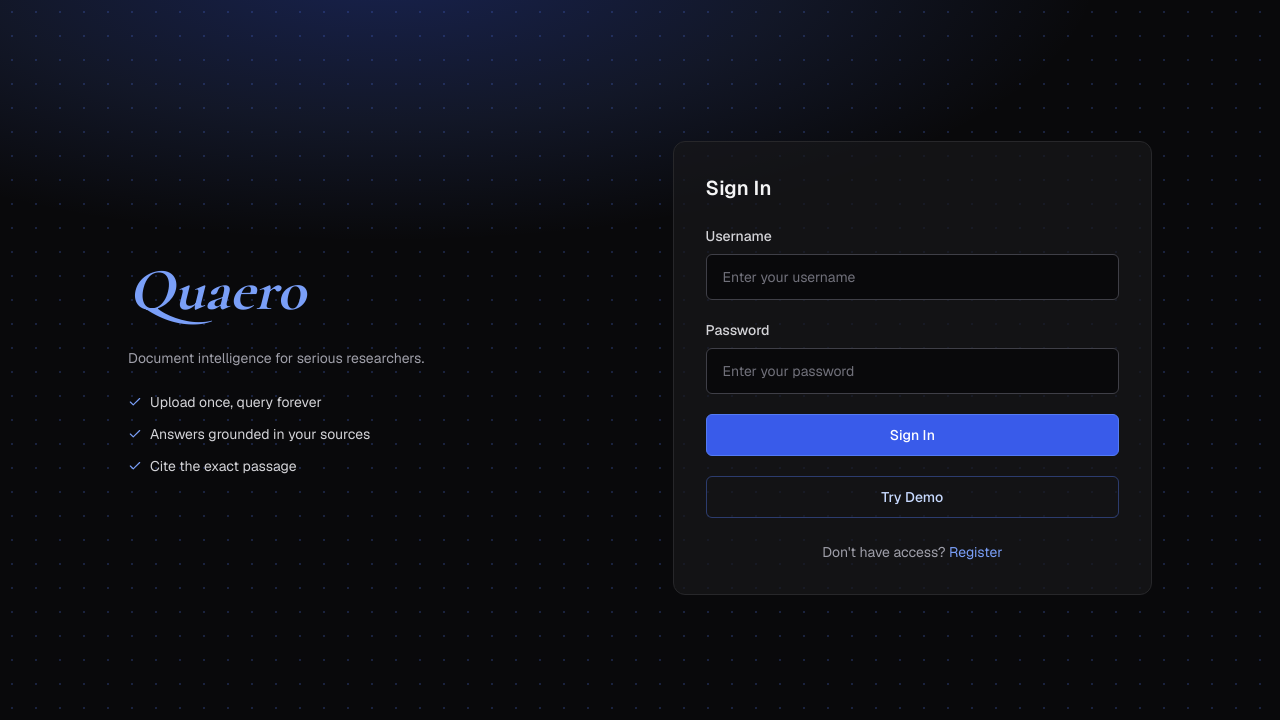
LoginPage form behavior › renders API errors and re-enables submit
Type "alice" into the field labelled "Username" at (912, 277), box x1=706 y1=254 x2=1119 y2=300
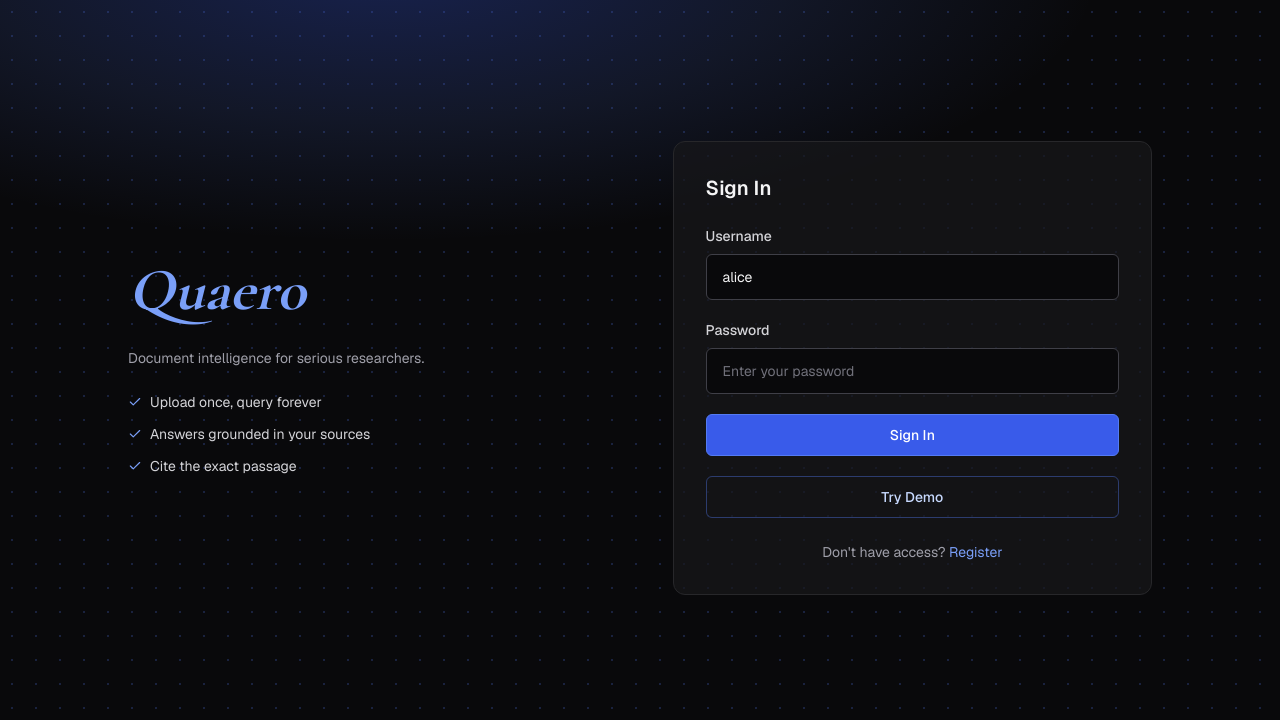
Type "wrong-pass" into the password field labelled "Password" at (912, 371), box x1=706 y1=348 x2=1119 y2=394
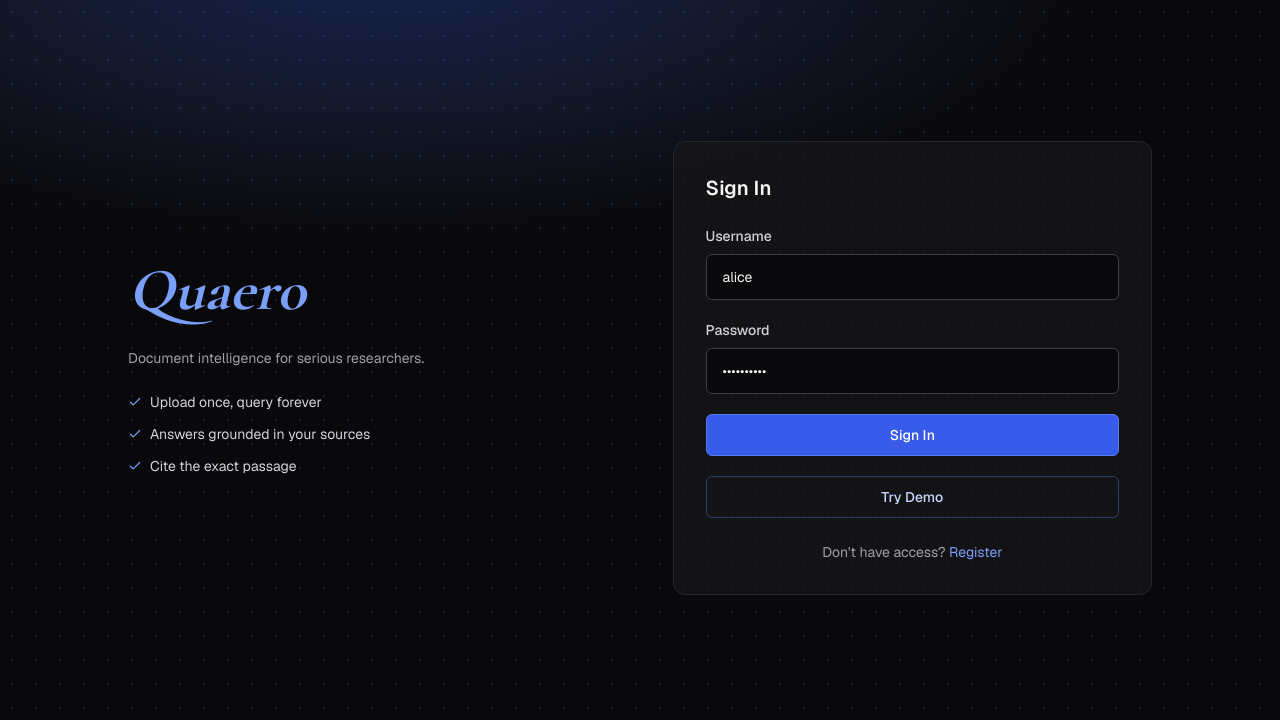
Click the button "Sign In" at (912, 435), box x1=706 y1=414 x2=1119 y2=456
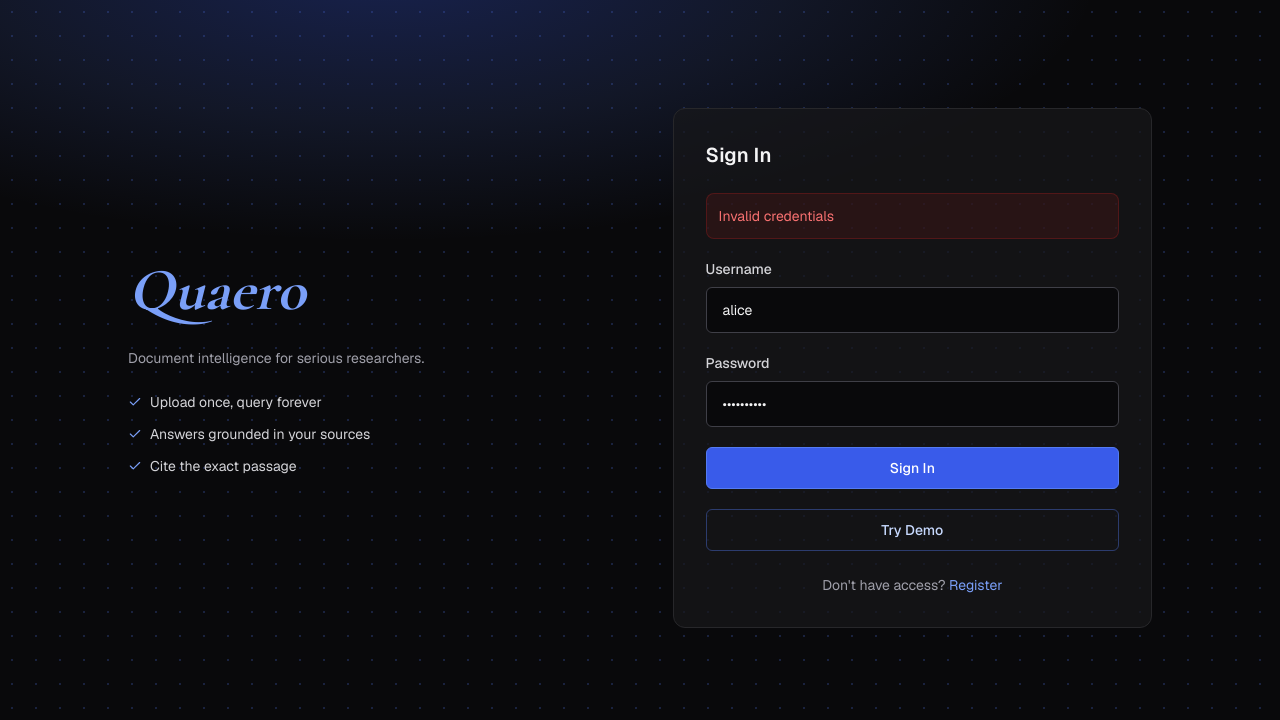
Expected: the button "Sign In" is enabled, x1=706 y1=447 x2=1119 y2=489
Now the text "Invalid credentials" is shown, box x1=706 y1=193 x2=1119 y2=239
